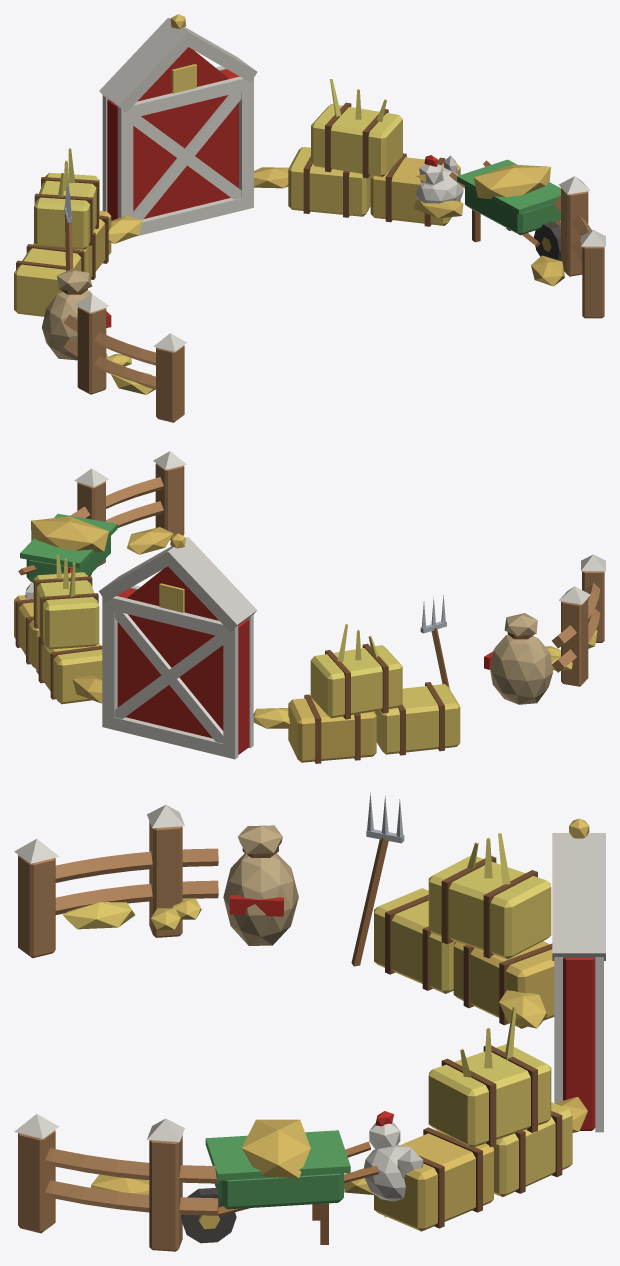
The model's file is habitat_theme_barnyard.fbx.
3 views of the same model, one above another, from view 1: azimuth 30°, elevation 25°; view 2: azimuth 150°, elevation 25°; view 3: azimuth 270°, elevation 25° (orthographic). The views are drawn at different scales.
Parts seen in each view (by area): view 1: habitat_theme_barnyard; view 2: habitat_theme_barnyard; view 3: habitat_theme_barnyard.
Boxes of the visible parts, x1,y1,x2,y2 form: habitat_theme_barnyard: (14, 14, 605, 422); habitat_theme_barnyard: (14, 451, 605, 763); habitat_theme_barnyard: (14, 792, 605, 1251).
Bounding box in the file's own units: 7.36 × 2.78 × 5.51.
